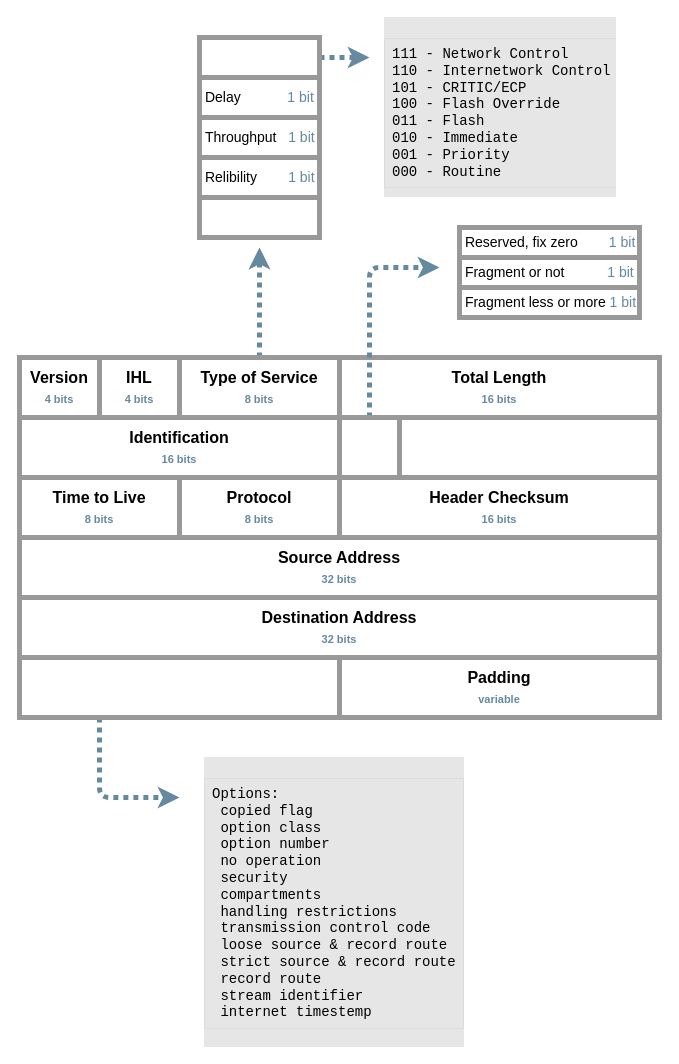
Image size: 679x1064. Some labels were removed from this diagram. The centre of each missing label's shape, as x and y in pixels:
Flags 3 bits: the point at 369,447
Fragment Offset 13 bits: the point at 529,447
Options variable: the point at 179,687
Precedence 3 bits: the point at 259,57
Reserved 2 bits: the point at 259,217
